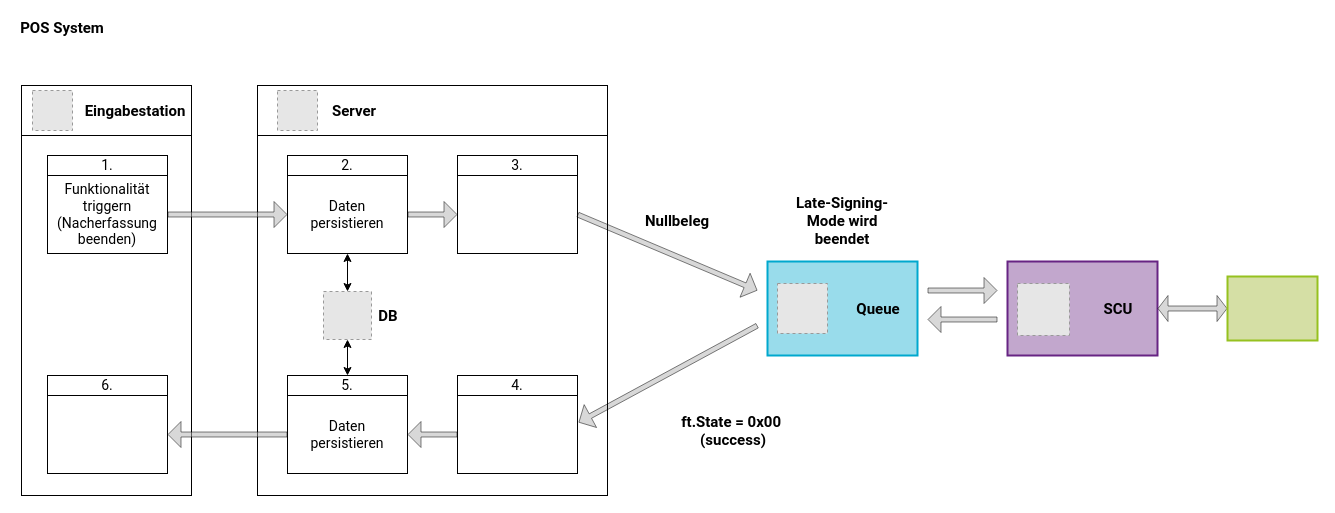
This 1335x513 diagram has some shape labels left out. Grey dashed boxes stand in for pictures. The box of each missing label's shape, as (x1, y1, x2, y2) in pixels:
Beleg erstellen und drucken: (46, 394, 168, 474)
Response prozessieren: (456, 394, 578, 474)
sign - Request senden (Nullbeleg): (456, 174, 578, 254)
TSE: (1226, 275, 1318, 341)
